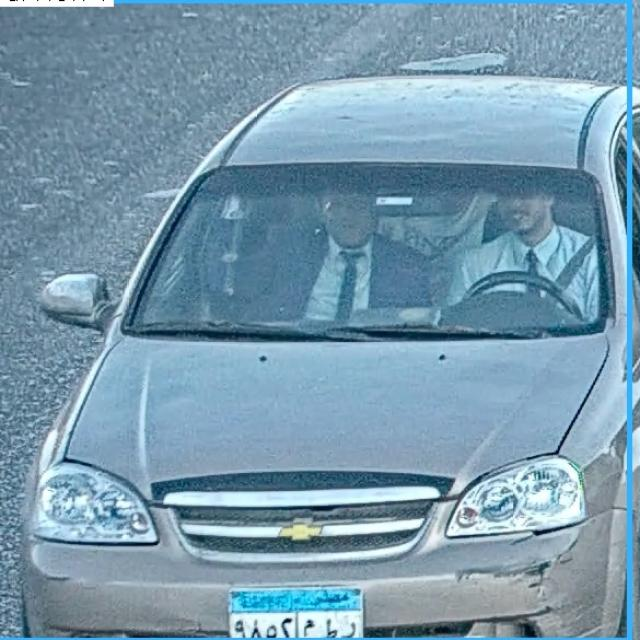windshield: (110, 166, 620, 325)
